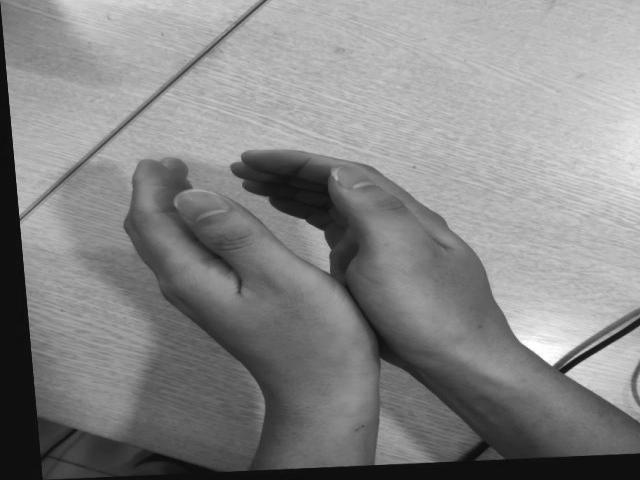not-gloved: (120, 153, 364, 391), (240, 144, 516, 354)
